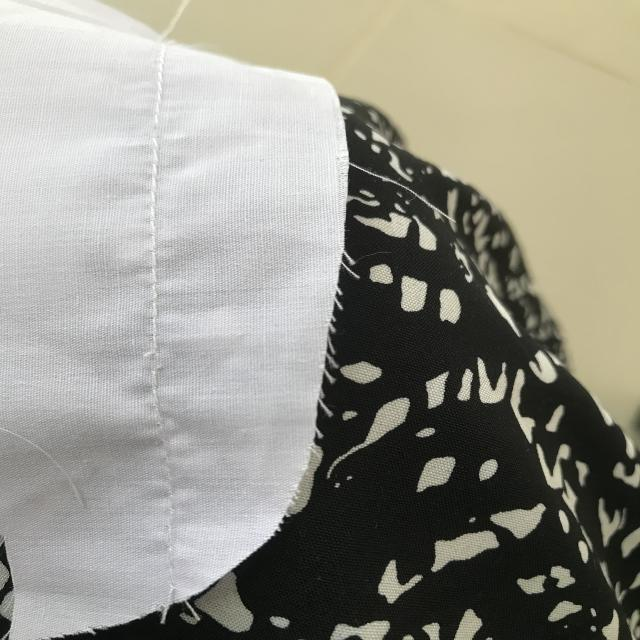broken: (136, 345, 181, 389)
